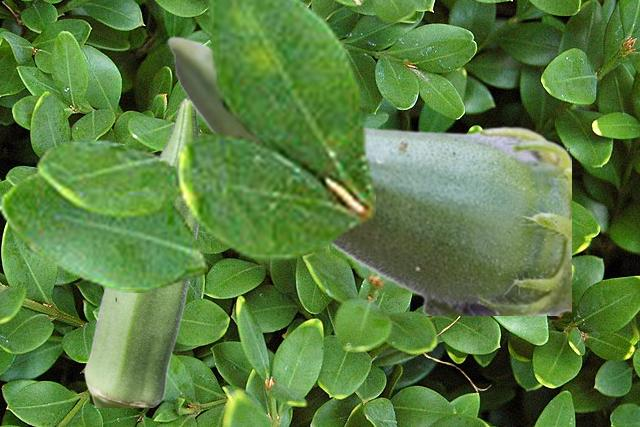okra: (166, 35, 570, 314), (84, 97, 200, 406)
